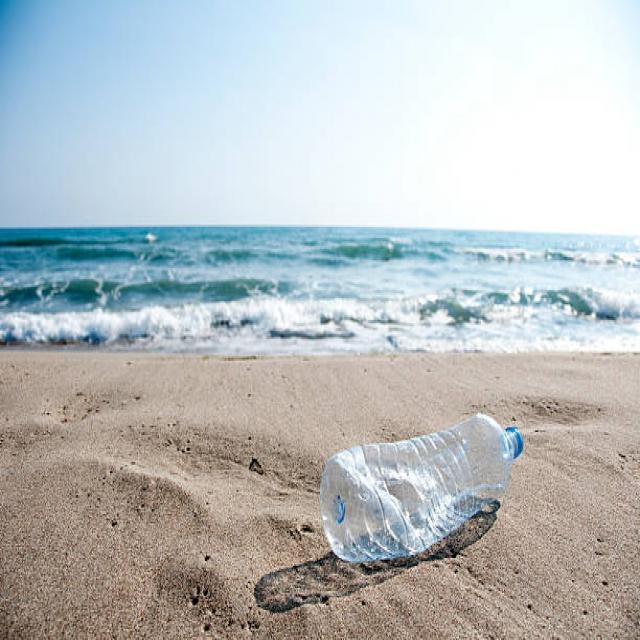plastic: (324, 417, 523, 564)
